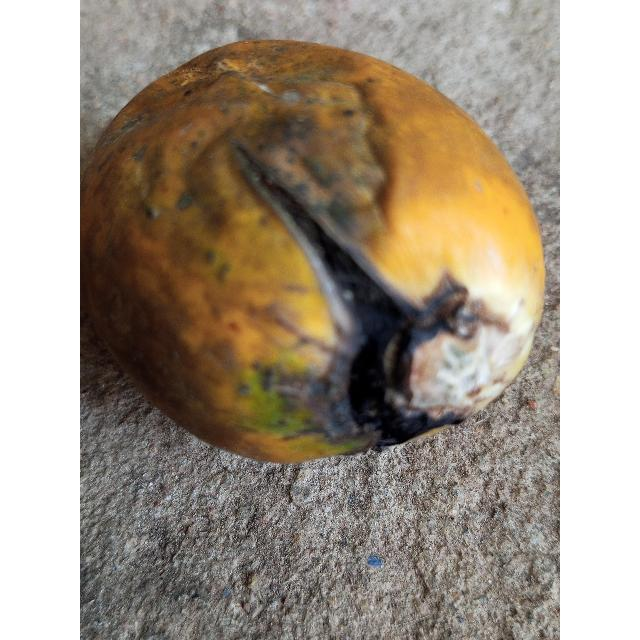damaged: (80, 40, 544, 463)
